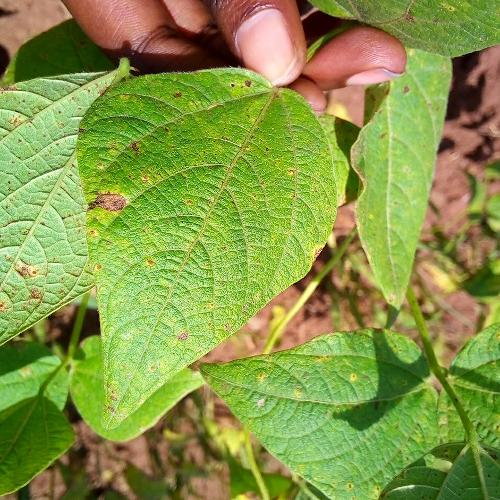hawar: (124, 82, 192, 159), (86, 184, 136, 222), (104, 380, 128, 417), (176, 325, 196, 348), (144, 253, 158, 267)
mozaik: (218, 152, 319, 262)
